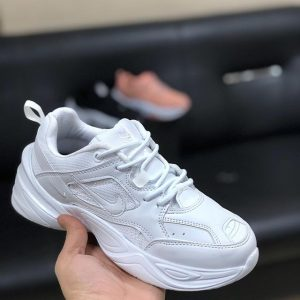nike: (71, 174, 126, 217)
